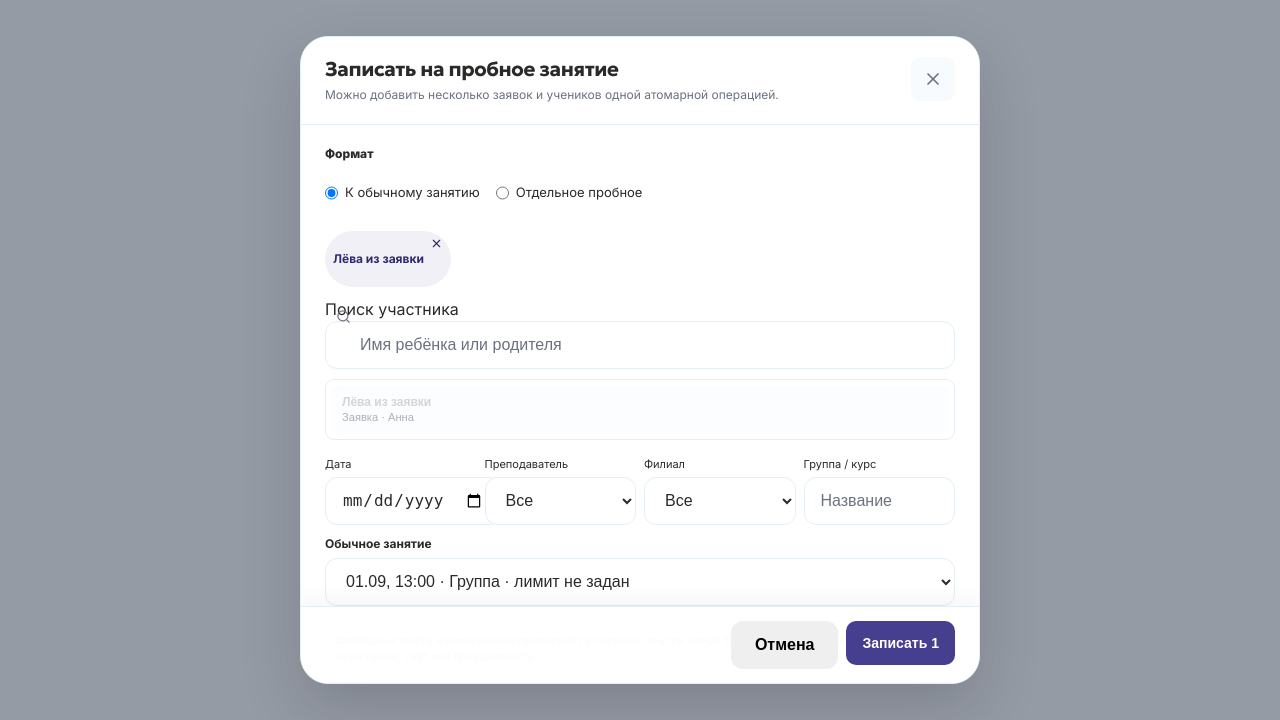
Scenario: trial dialog › preselects a lead and switches between attached and standalone modes
Expected: the button named "Удалить Лёва из заявки" is shown, [430,237,443,281]
Expected: the radio button labelled "К обычному занятию" is checked, [325,171,338,215]
Click the radio button labelled "Отдельное пробное".
click(502, 193)  # box [496,171,509,215]
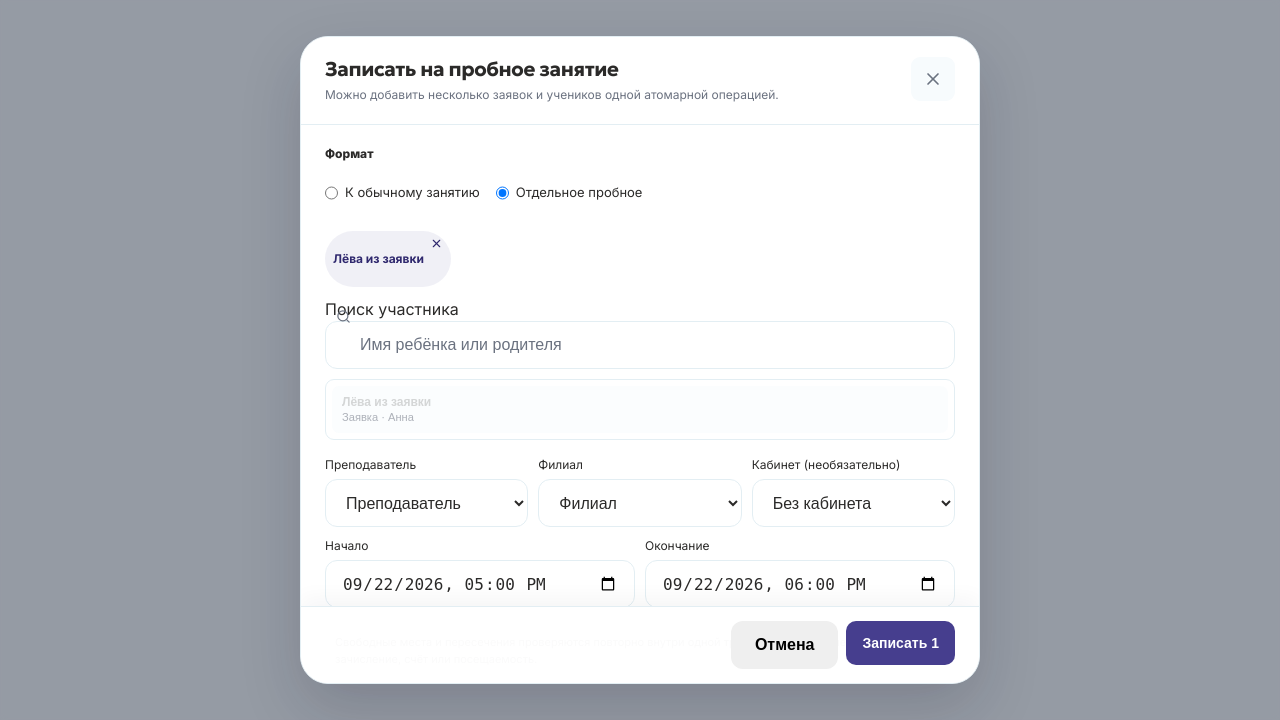
Result: the dropdown labelled "Преподаватель" is shown at [325,479,528,527]
Result: the field labelled "Начало" is shown at [325,560,635,608]
Result: the field labelled "Окончание" is shown at [645,560,955,608]
